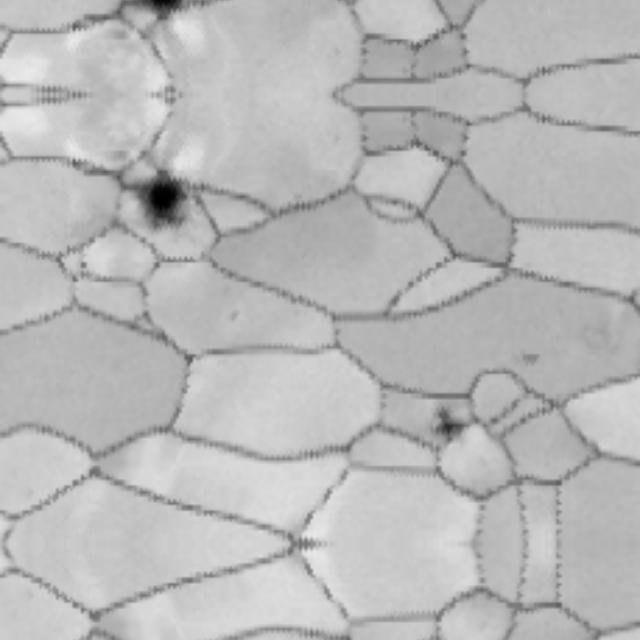good_void: (107, 146, 213, 251), (426, 402, 478, 458), (122, 0, 194, 30), (519, 349, 543, 371), (76, 256, 91, 272), (227, 308, 240, 324)
